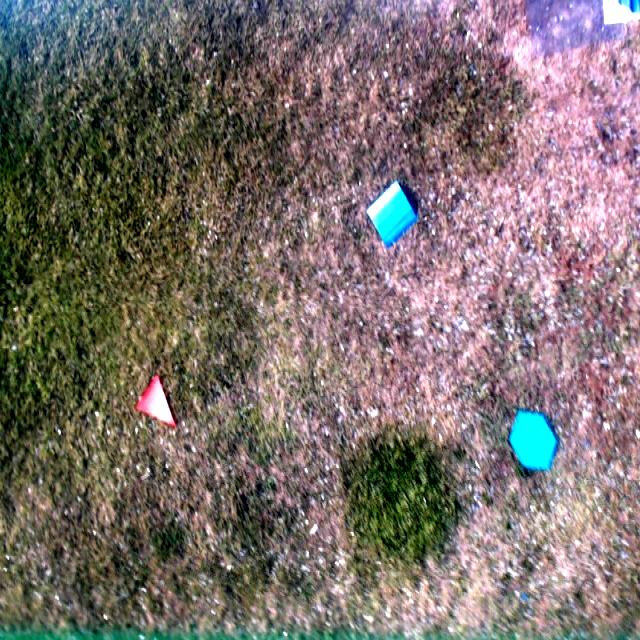blue_hexagon: (508, 408, 559, 474)
blue_square: (363, 183, 417, 246)
red_triangle: (136, 371, 180, 433)
